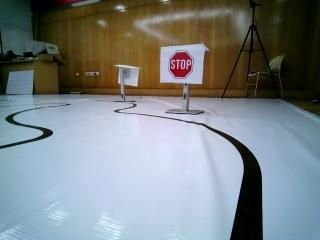stop: (163, 48, 199, 86)
